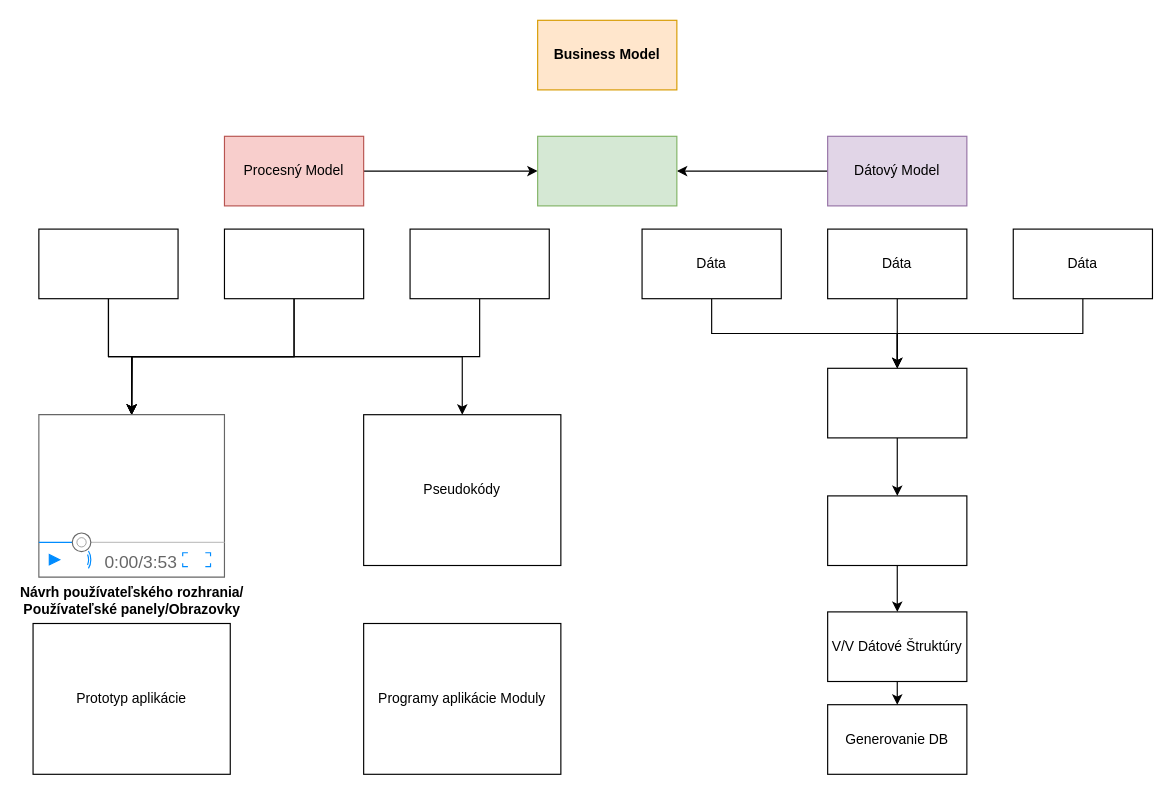
Some shapes in this 1173 by 795 pixel diagram are drawn without their labels. Each missing label, with the centre of its shape:
"Dokumentácia s požiadavkami" belongs at pixel 606 170.
"Fyzický Model" belongs at pixel 896 530.
"Logický Model" belongs at pixel 896 402.
"Proces 1" belongs at pixel 108 263.
"Proces 2" belongs at pixel 293 263.
"Proces 3" belongs at pixel 479 263.
